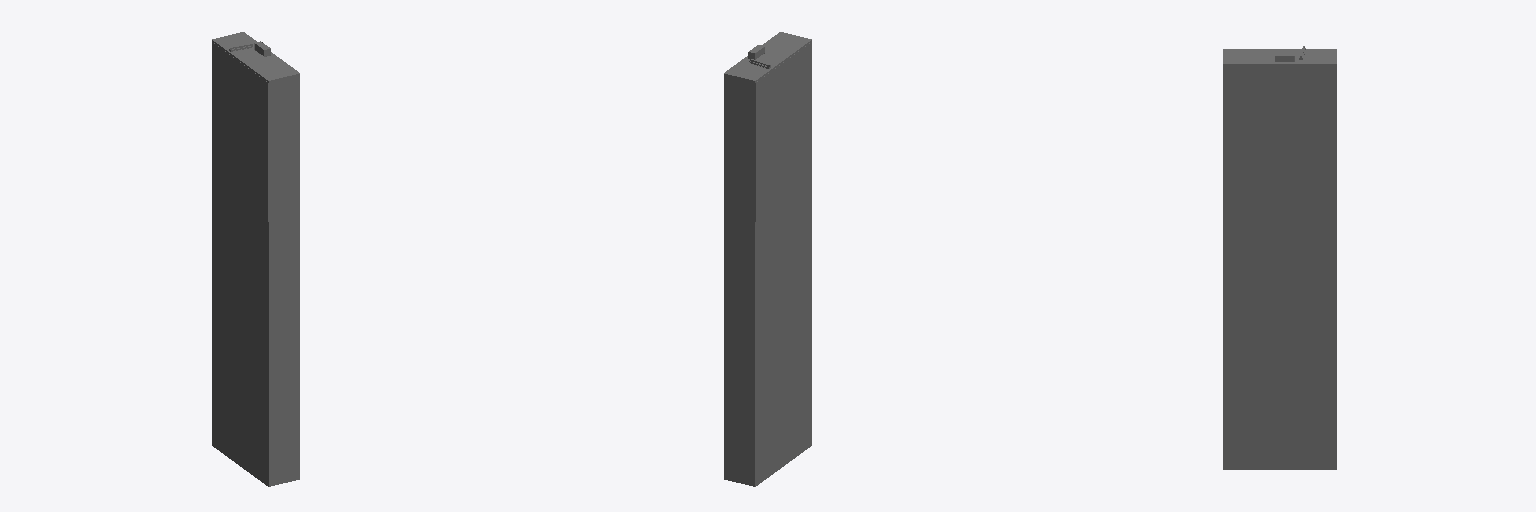
Rendered from bill1-1.obj.
The picture shows the model from 3 angles: view 1: azimuth 30°, elevation 25°; view 2: azimuth 150°, elevation 25°; view 3: azimuth 270°, elevation 25°; orthographic projection.
Size of the model in its own units: 14.76 by 181 by 45.29.